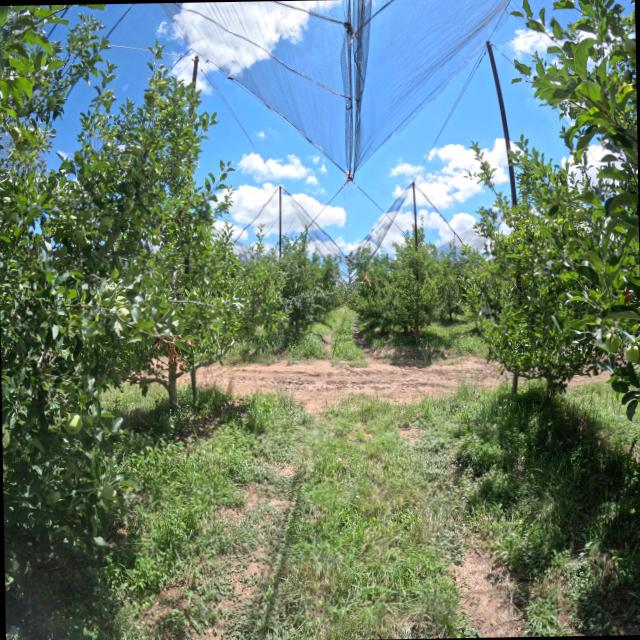-FireBlight-: (152, 334, 195, 375)
